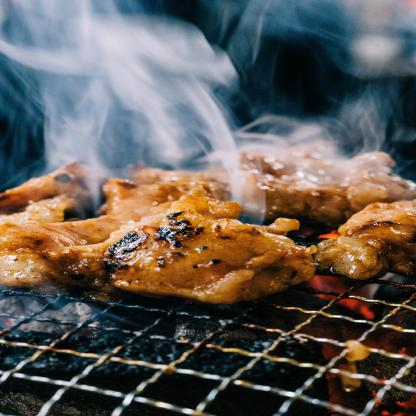Carne: (3, 177, 236, 285), (98, 212, 313, 303), (324, 197, 415, 281)
